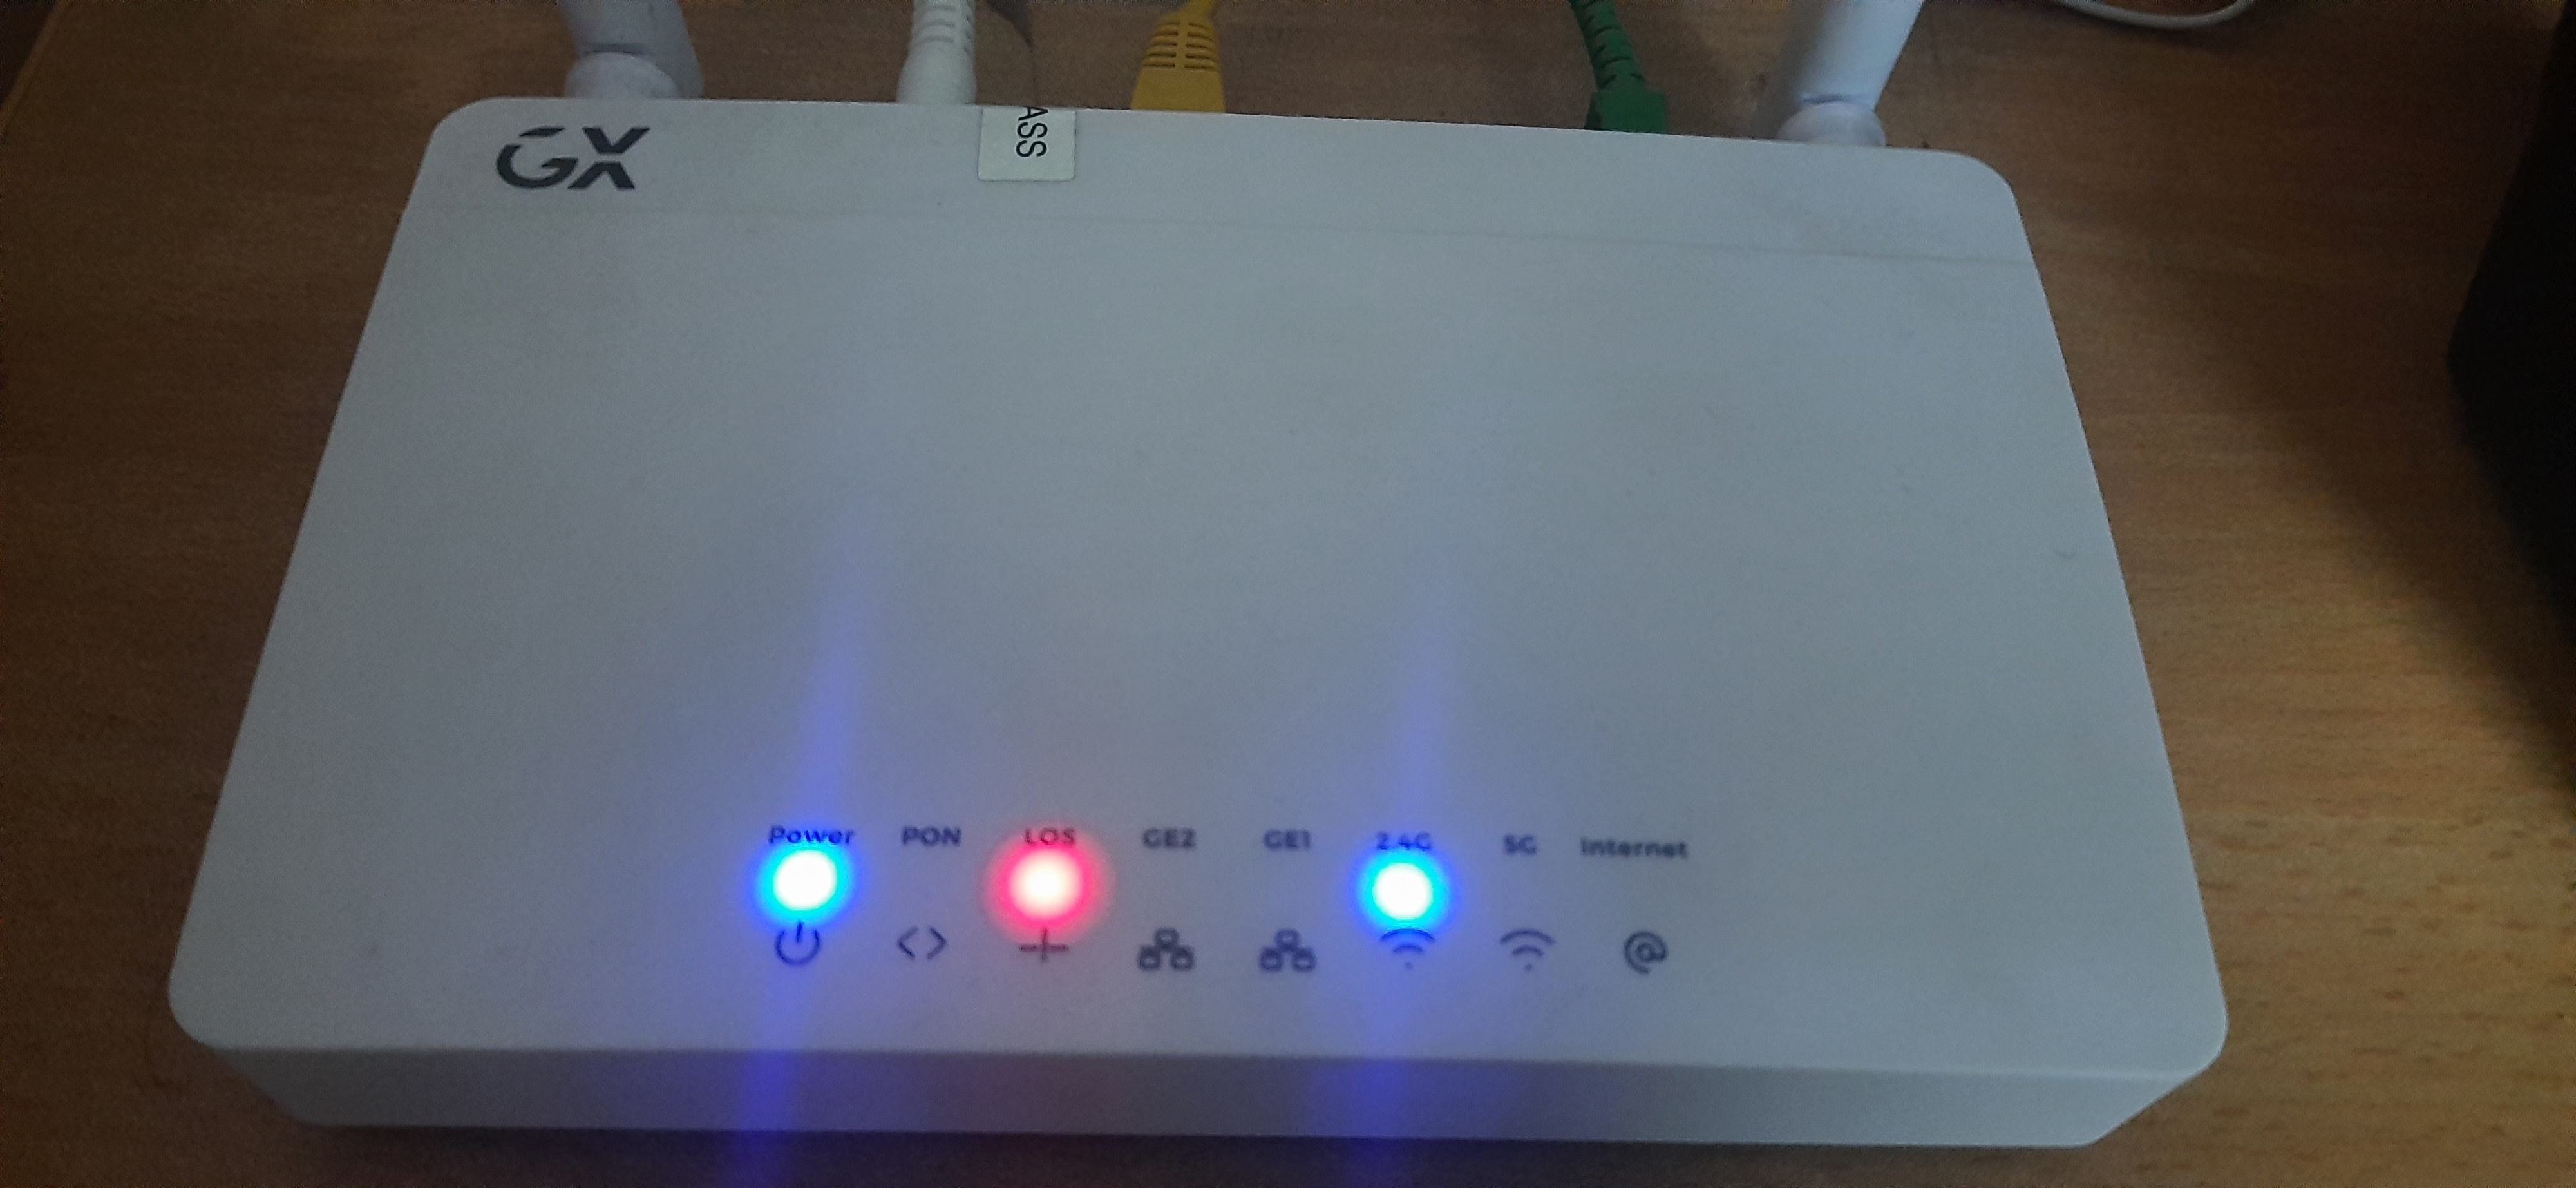LOSConnectionIssue: (977, 815, 1134, 999)
